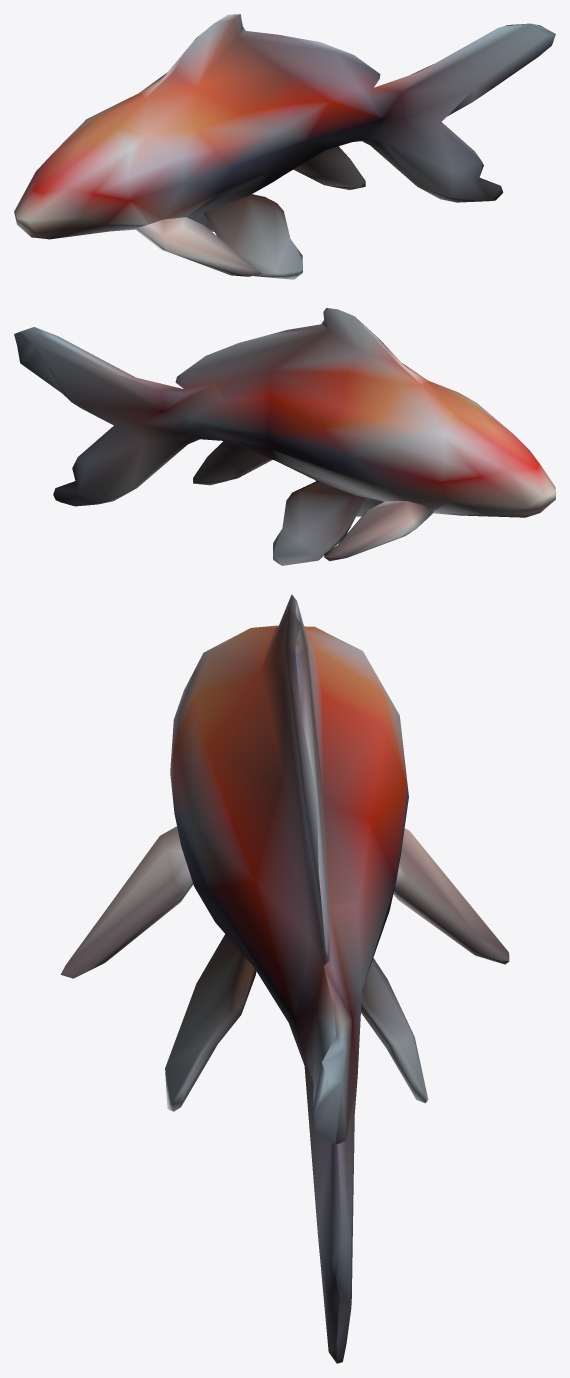
Rendered from koi.glb.
3 views of the same model, one above another, from view 1: azimuth 30°, elevation 25°; view 2: azimuth 150°, elevation 25°; view 3: azimuth 270°, elevation 25° (orthographic). The views are drawn at different scales.
Visible parts, largest first — view 1: mesh_0; view 2: mesh_0; view 3: mesh_0.
Boxes of the visible parts, left/top/right/bottom form: mesh_0: left=14, top=14, right=555, bottom=279; mesh_0: left=14, top=308, right=555, bottom=565; mesh_0: left=60, top=594, right=509, bottom=1363.
Size of the model in its own units: 6.39 by 2.89 by 2.34.
